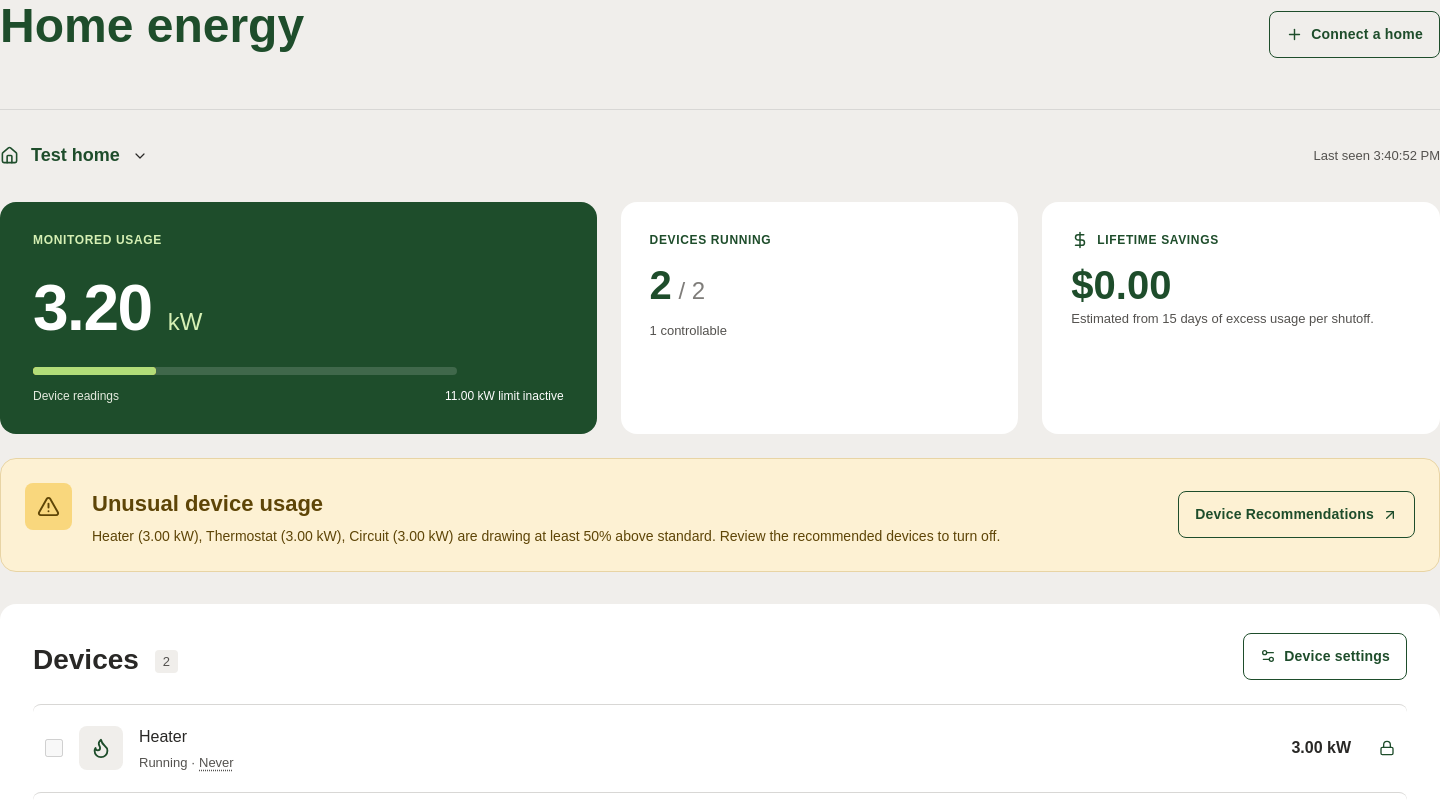
Scenario: shows protected devices for review without making them selectable
What coordinates should you click on to do the following:
click the button "Device Recommendations"
I would click on:
 (1297, 515)
Its box is [1178, 491, 1415, 538].
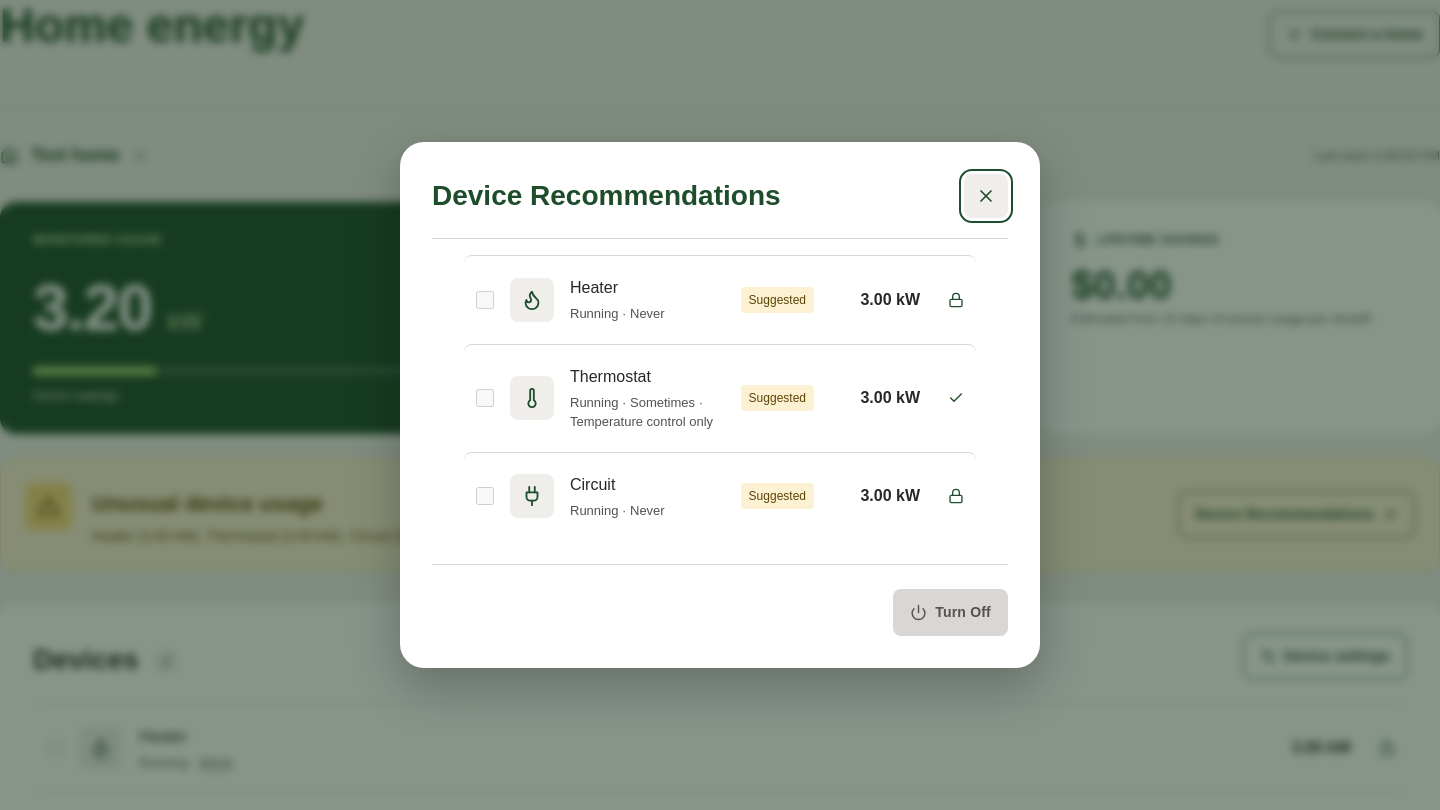
Expected: the checkbox labelled "Heater" is disabled, [476, 291, 494, 309]
Expected: the checkbox labelled "Heater" is not checked, [476, 291, 494, 309]
Expected: the checkbox labelled "Thermostat" is disabled, [476, 389, 494, 407]
